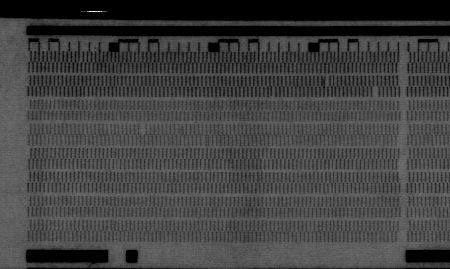Broken hole: (370, 87, 381, 99), (137, 122, 147, 135)
Oblique printing: (266, 85, 278, 99), (320, 76, 332, 89)
